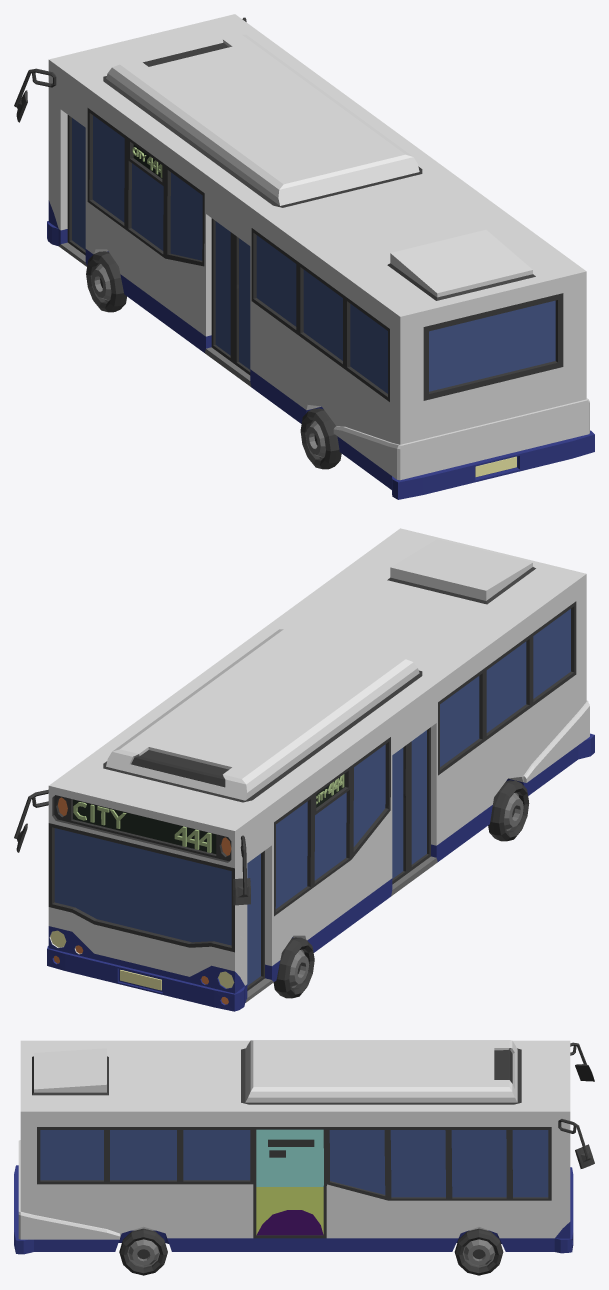
Rendered from Bus.fbx.
The picture shows the model from 3 angles, top to bottom: view 1: azimuth 30°, elevation 25°; view 2: azimuth 150°, elevation 25°; view 3: azimuth 270°, elevation 25°; orthographic projection. The views are drawn at different scales.
Parts seen in each view (by area): view 1: Bus; view 2: Bus; view 3: Bus.
Boxes of the visible parts, x1,y1,x2,y2 form: Bus: (14, 14, 594, 499); Bus: (14, 528, 594, 1011); Bus: (14, 1040, 594, 1275).
Bounding box in the file's own units: 250 × 229 × 691.
